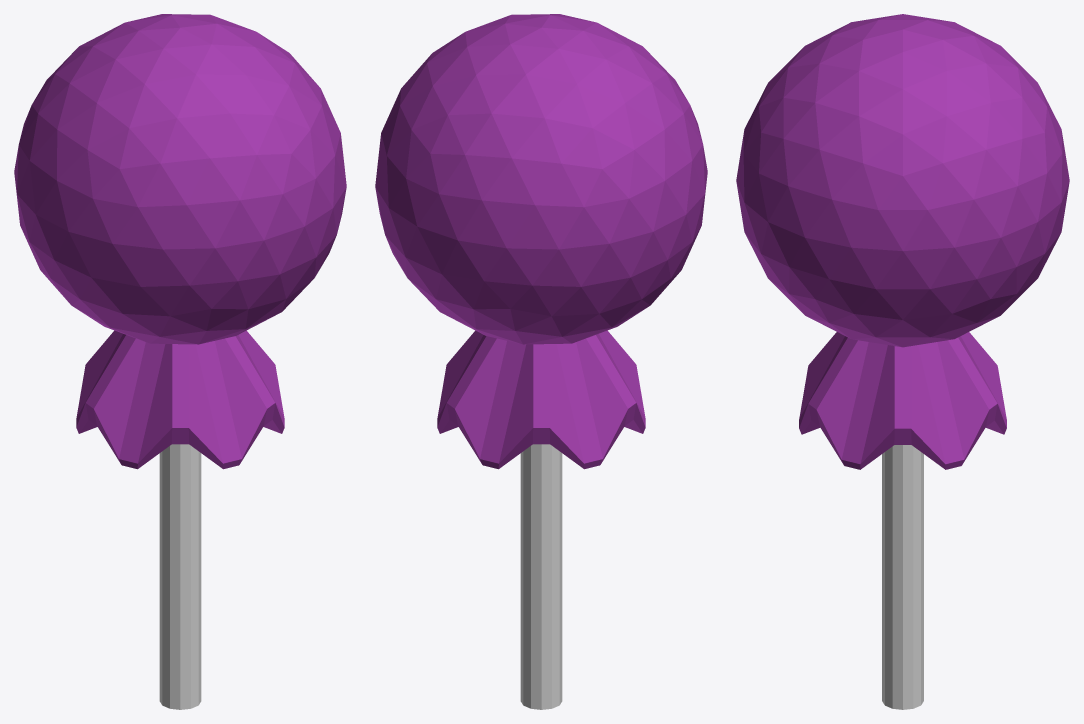
Rendered from Lollipop.fbx.
The picture shows the model from 3 angles, left to right: view 1: azimuth 30°, elevation 25°; view 2: azimuth 150°, elevation 25°; view 3: azimuth 270°, elevation 25°; orthographic projection.
Parts seen in each view (by area): view 1: Lollipop; view 2: Lollipop; view 3: Lollipop.
Part boxes in pixels (box(x1,y1,x2,y2)): Lollipop: box(14, 14, 346, 709); Lollipop: box(375, 14, 707, 709); Lollipop: box(736, 14, 1069, 709).
Size of the model in its own units: 140 by 312 by 140.
